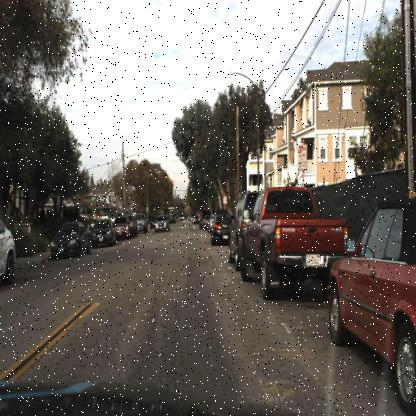car: (328, 198, 415, 412), (239, 184, 349, 304), (227, 184, 252, 272), (48, 221, 90, 261), (0, 212, 18, 288), (89, 218, 116, 249), (210, 209, 230, 247), (113, 215, 130, 239), (153, 213, 169, 234), (134, 212, 148, 234), (125, 214, 137, 236), (128, 213, 138, 238), (206, 212, 216, 232)
